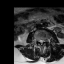CCS_normal: (40, 37, 42, 47)
LFS_stenosis: (44, 37, 45, 43)
LLS_stenosis: (42, 38, 44, 44)
RFS_stenosis: (36, 37, 38, 43)
RLS_stenosis: (38, 38, 40, 44)
